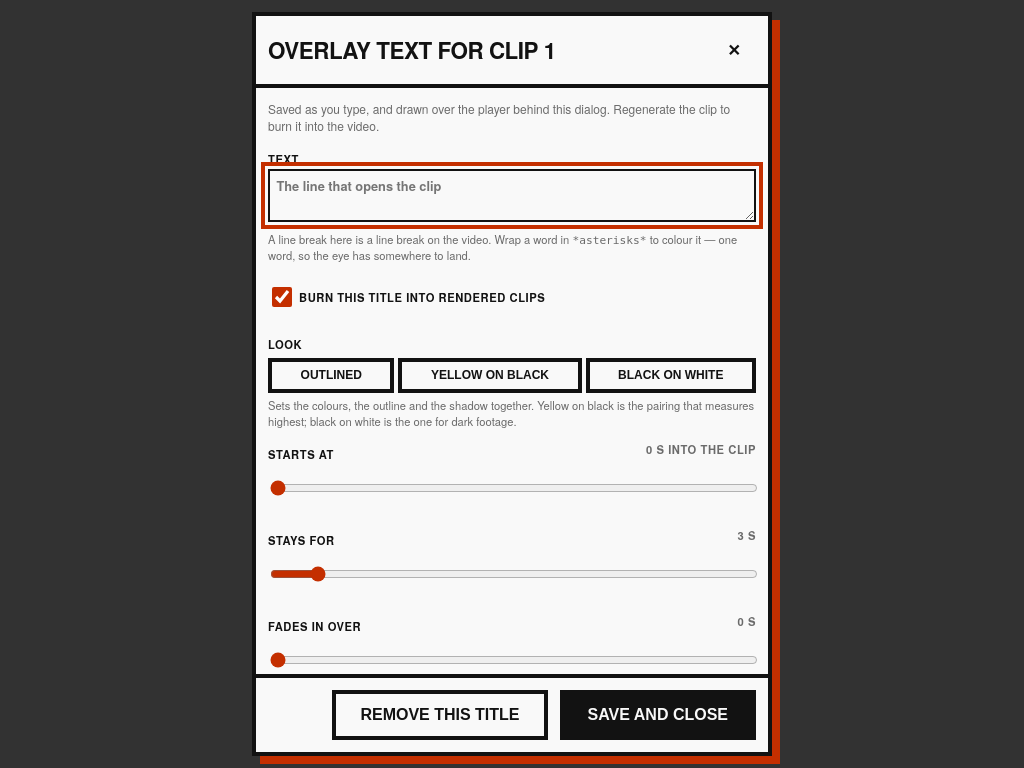
Test: OverlayTextEditor › does not count the marks as something anyone reads
Type "we *lost* it" into the text box labelled "Text".
click(512, 195); type("we *lost* it")  # box [268,169,756,222]
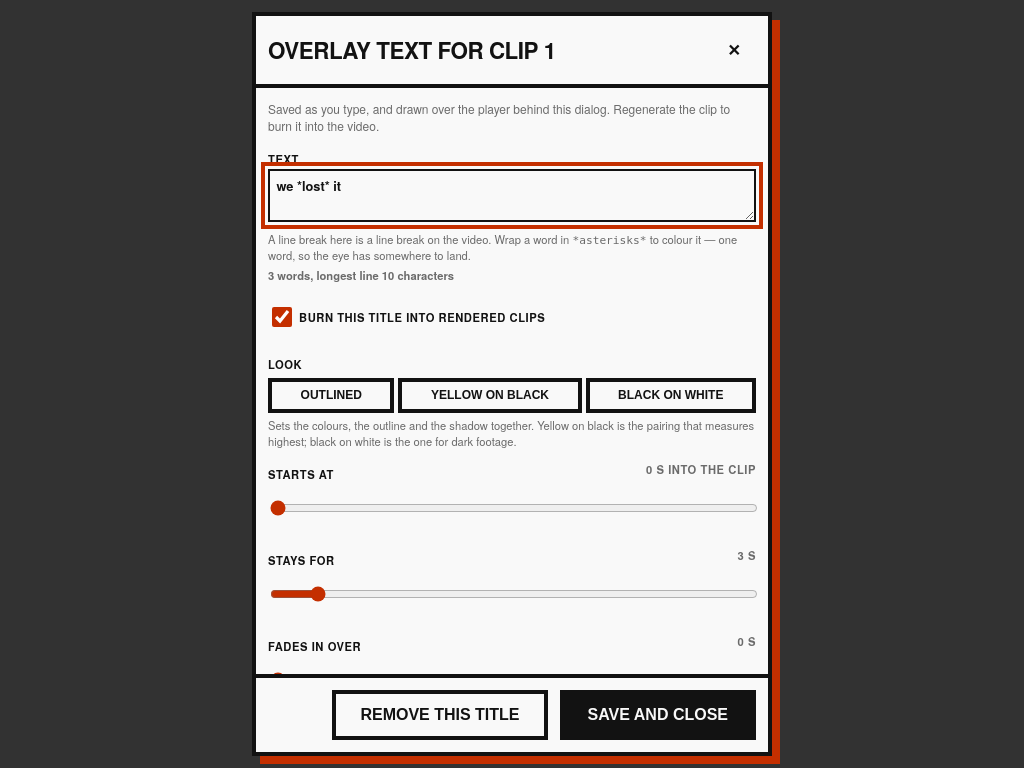
Check: the text "3 words, longest line 10 characters" is shown, box [268,267,454,283]
